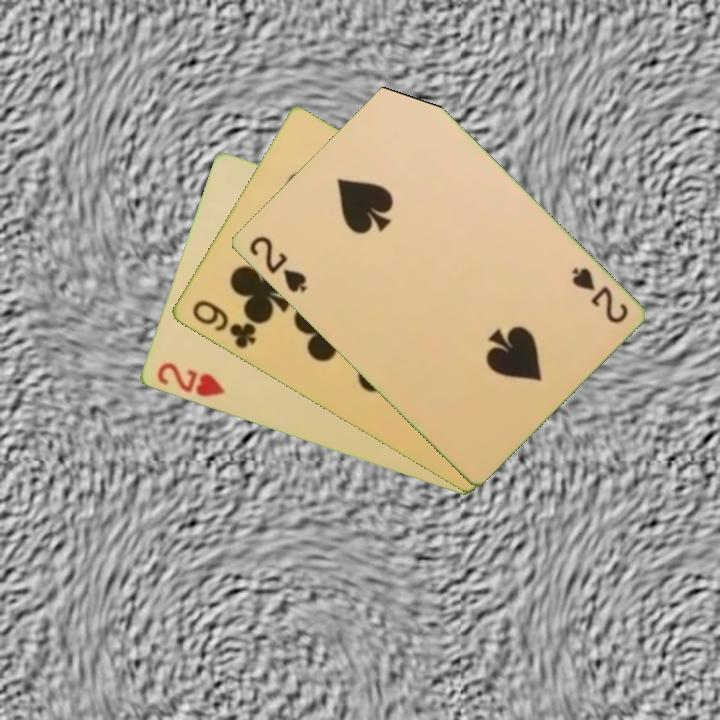2h: (152, 359, 228, 400)
2s: (245, 232, 309, 296), (567, 264, 631, 327)
9c: (188, 296, 259, 352)
